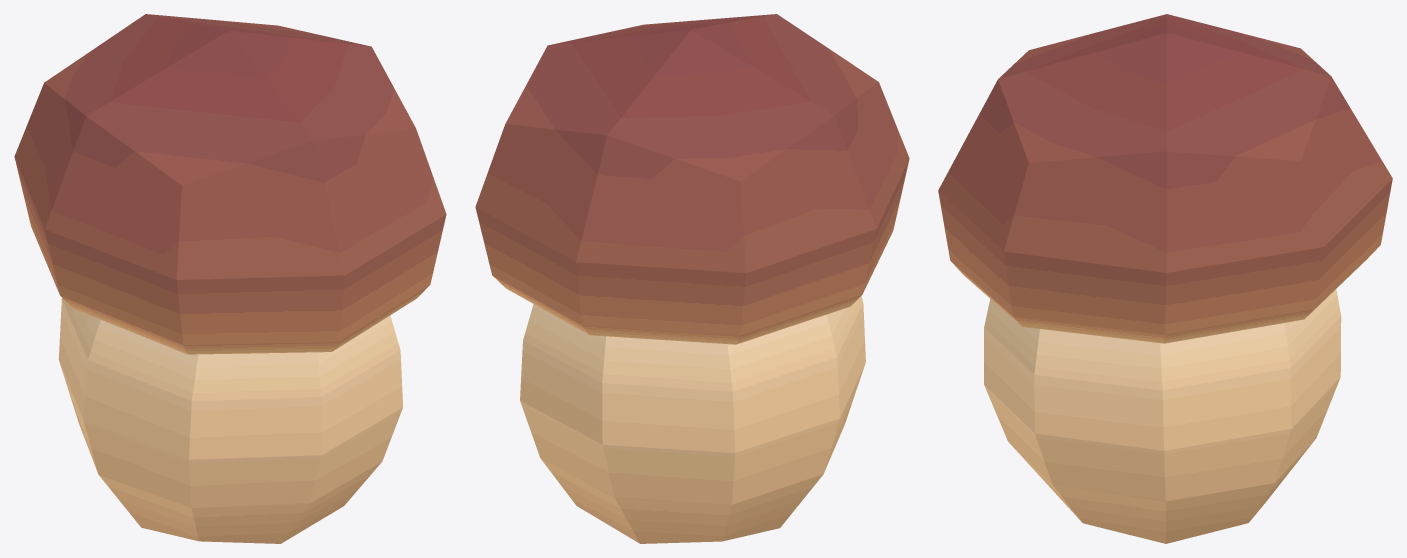
Rendered from Small_KingBolete.glb.
The picture shows the model from 3 angles, left to right: view 1: azimuth 30°, elevation 25°; view 2: azimuth 150°, elevation 25°; view 3: azimuth 270°, elevation 25°; orthographic projection.
Parts seen in each view (by area): view 1: KingB_small; view 2: KingB_small; view 3: KingB_small.
Part boxes in pixels (x1,y1,x2,y2): KingB_small: [14, 14, 446, 543]; KingB_small: [475, 14, 909, 543]; KingB_small: [938, 14, 1392, 543].
Size of the model in its own units: 3.83 by 4.9 by 4.14.
1 material, 1 textured.
